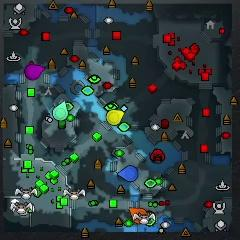p1: (119, 166, 138, 182)
p2: (53, 101, 68, 121)
p3: (25, 64, 44, 80)
p4: (107, 109, 124, 125)
p5: (129, 207, 147, 225)
